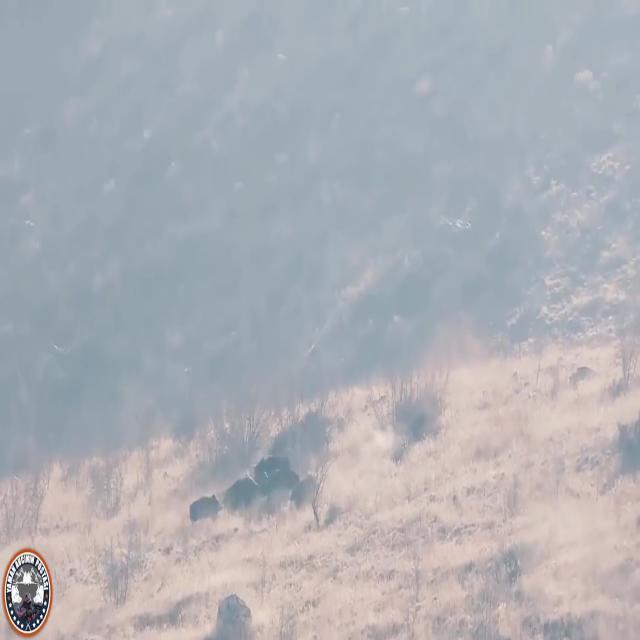pig: (185, 480, 220, 536)
